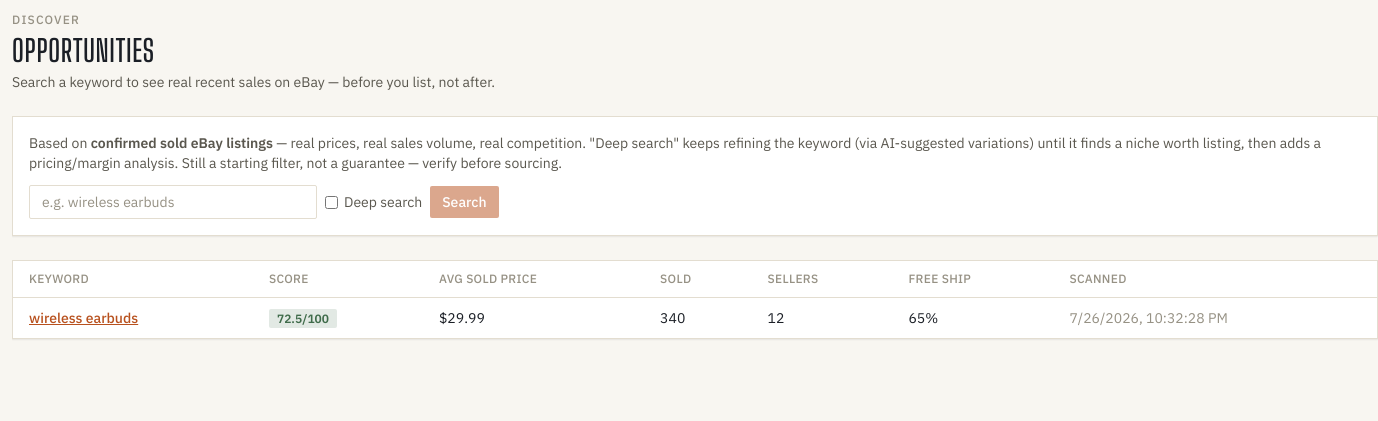
Test: OpportunitiesPage › renders past scan history with score and sample sold listings on expand
Check: the text "72.5/100" is shown, box [269,309,337,328]
Check: the text "$29.99" is shown, box [423,298,644,338]
Step 1. Click the button "wireless earbuds" → (84, 318), box [29,308,138,328]
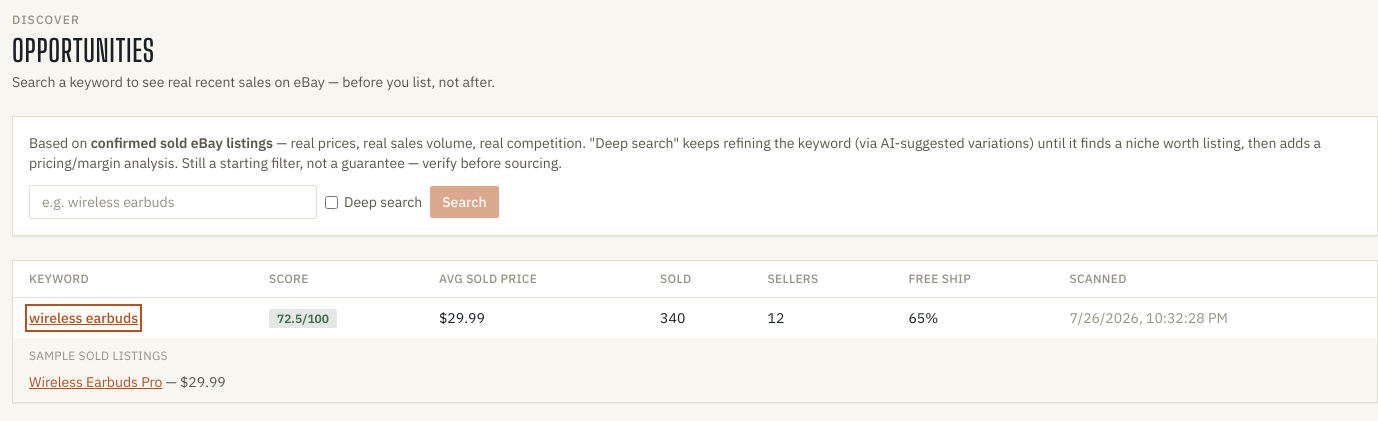
Check: the link "Wireless Earbuds Pro" is shown, box [29,373,162,391]
